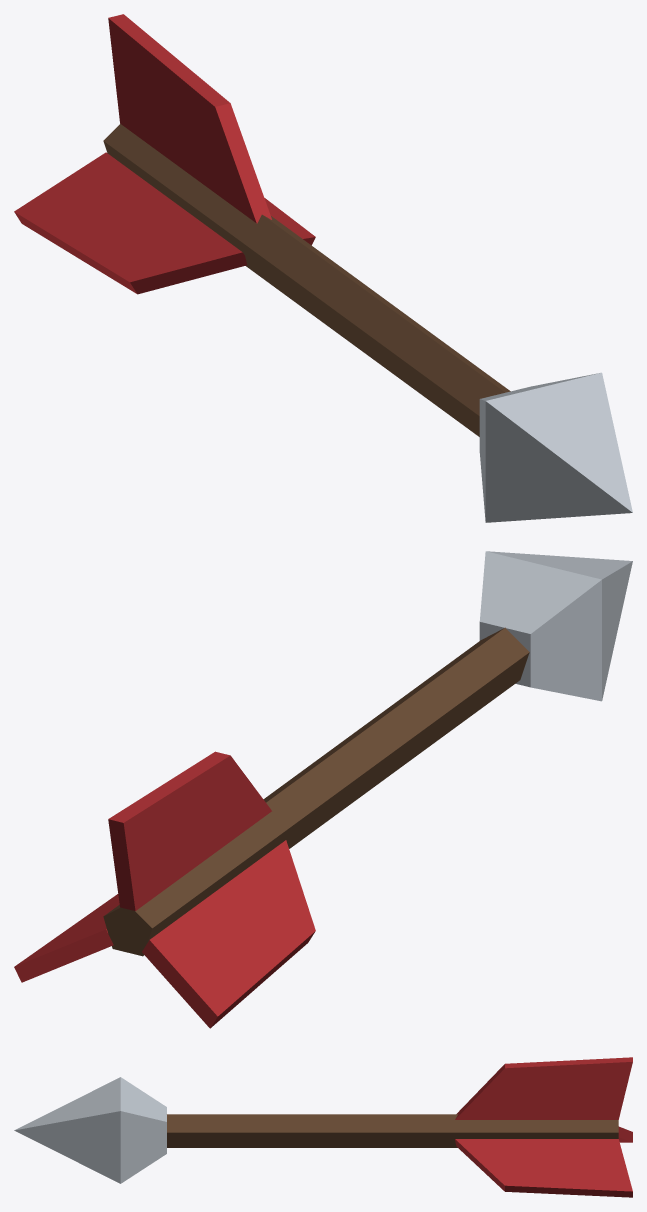
Rendered from Shot_Bolt.fbx.
3 renders of one model, top to bottom at view 1: azimuth 30°, elevation 25°; view 2: azimuth 150°, elevation 25°; view 3: azimuth 270°, elevation 25°, orthographic. The views are drawn at different scales.
Parts seen in each view (by area): view 1: Fletch, Shaft, Head; view 2: Fletch, Shaft, Head; view 3: Fletch, Shaft, Head.
Part boxes in pixels (x1,y1,x2,y2): Fletch: [14, 14, 315, 294]; Shaft: [103, 124, 510, 436]; Head: [479, 372, 632, 522]; Fletch: [14, 751, 315, 1028]; Shaft: [103, 627, 529, 956]; Head: [479, 551, 632, 701]; Fletch: [455, 1057, 632, 1197]; Shaft: [167, 1114, 618, 1147]; Head: [14, 1077, 166, 1183].
Bounding box in the file's own units: 0.3961 × 0.343 × 1.74.
